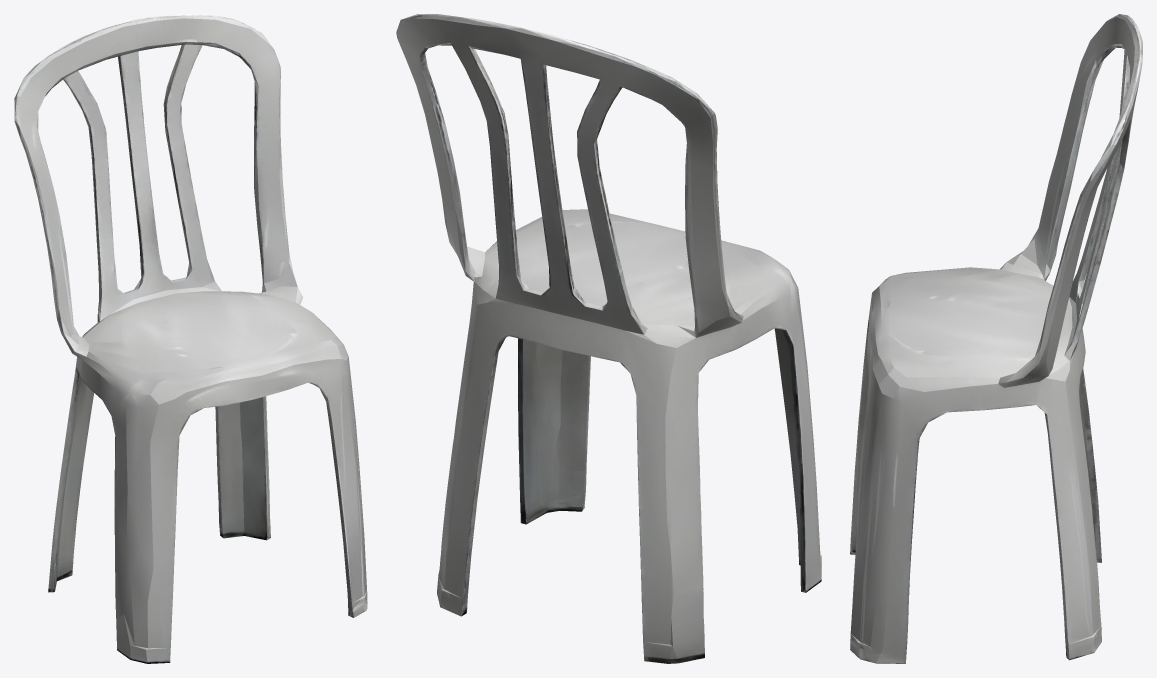
Rendered from keter-chair.glb.
3 views of the same model, side by side, from view 1: azimuth 30°, elevation 25°; view 2: azimuth 150°, elevation 25°; view 3: azimuth 270°, elevation 25° (orthographic). The views are drawn at different scales.
Visible parts, largest first — view 1: model; view 2: model; view 3: model.
Boxes of the visible parts, x1,y1,x2,y2 form: model: (14,14,367,663); model: (396,14,821,663); model: (850,14,1142,663).
Bounding box in the file's own units: 0.9597 × 1.81 × 0.8668.
1 material, 1 textured.
